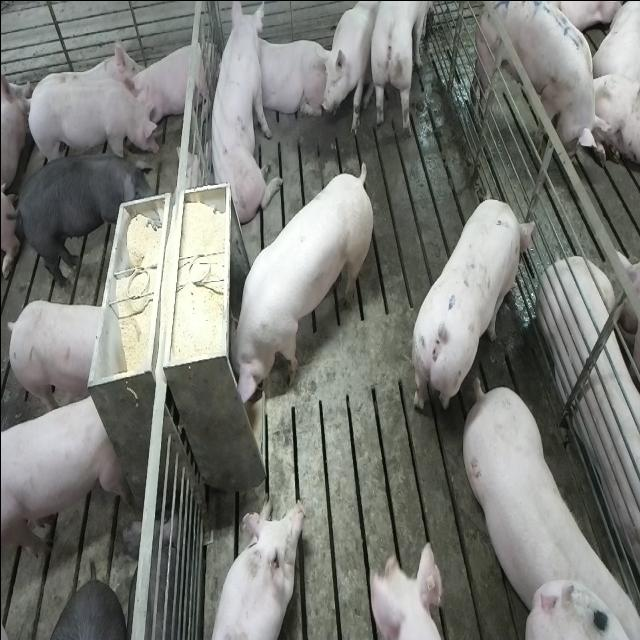Feeding: (220, 161, 368, 409)
Sitting: (203, 4, 277, 230), (321, 2, 376, 139)
Standing: (456, 373, 634, 633), (411, 196, 536, 421), (476, 0, 618, 158), (1, 386, 124, 568), (15, 144, 143, 283), (23, 74, 161, 165), (7, 296, 108, 414), (370, 1, 440, 139)
Sternal_lying: (539, 255, 640, 581), (206, 495, 306, 640), (130, 32, 214, 132), (252, 33, 328, 123)
